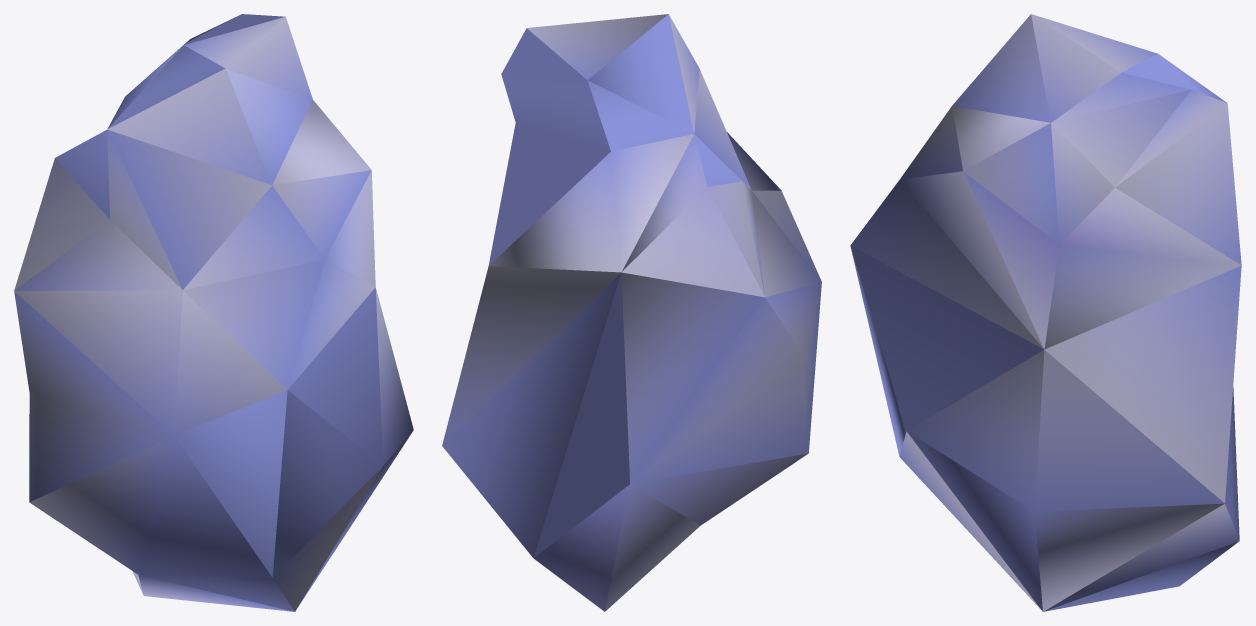
File: gvee.hrc.gltf
The picture shows the model from 3 angles, left to right: view 1: azimuth 30°, elevation 25°; view 2: azimuth 150°, elevation 25°; view 3: azimuth 270°, elevation 25°; orthographic projection. The views are drawn at different scales.
Visible parts, largest first — view 1: gveeBone0_null; view 2: gveeBone0_null; view 3: gveeBone0_null.
Part boxes in pixels (x1,y1,x2,y2): gveeBone0_null: [14, 14, 413, 611]; gveeBone0_null: [442, 14, 821, 611]; gveeBone0_null: [850, 14, 1241, 611].
Bounding box in the file's own units: 9.45 × 14.45 × 8.9.
